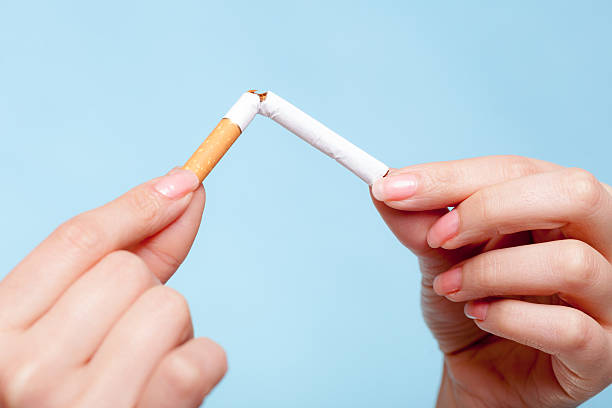cigarette: (253, 90, 391, 187), (186, 86, 262, 194)
